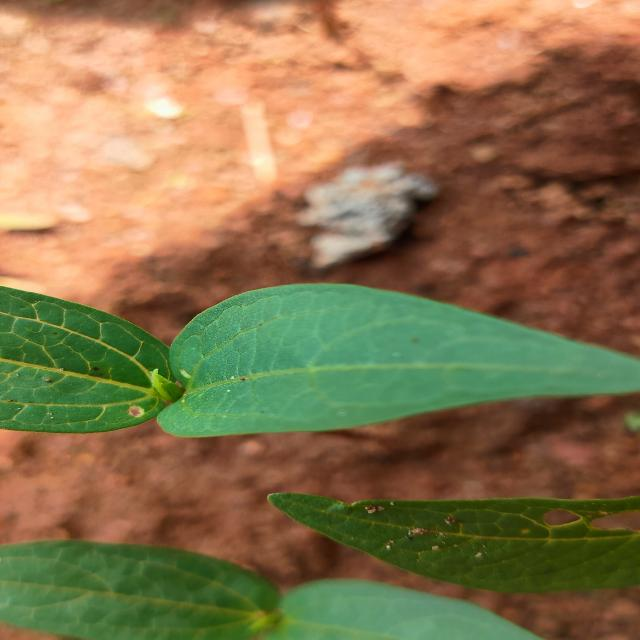Black gram_healthy: (161, 279, 640, 430), (0, 285, 179, 432)
